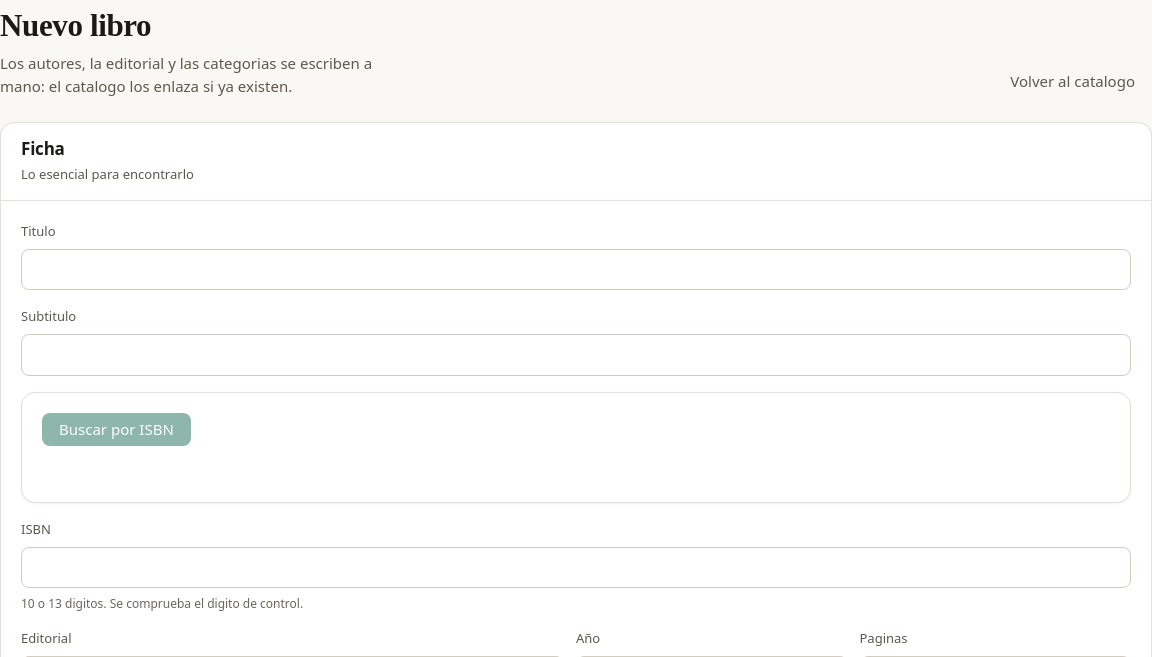
Test: BookForm con relleno por ISBN › copia los datos del proveedor al formulario al confirmar
In the field labelled "ISBN": (576, 567) [21,547,1131,588], type "9780306406157"
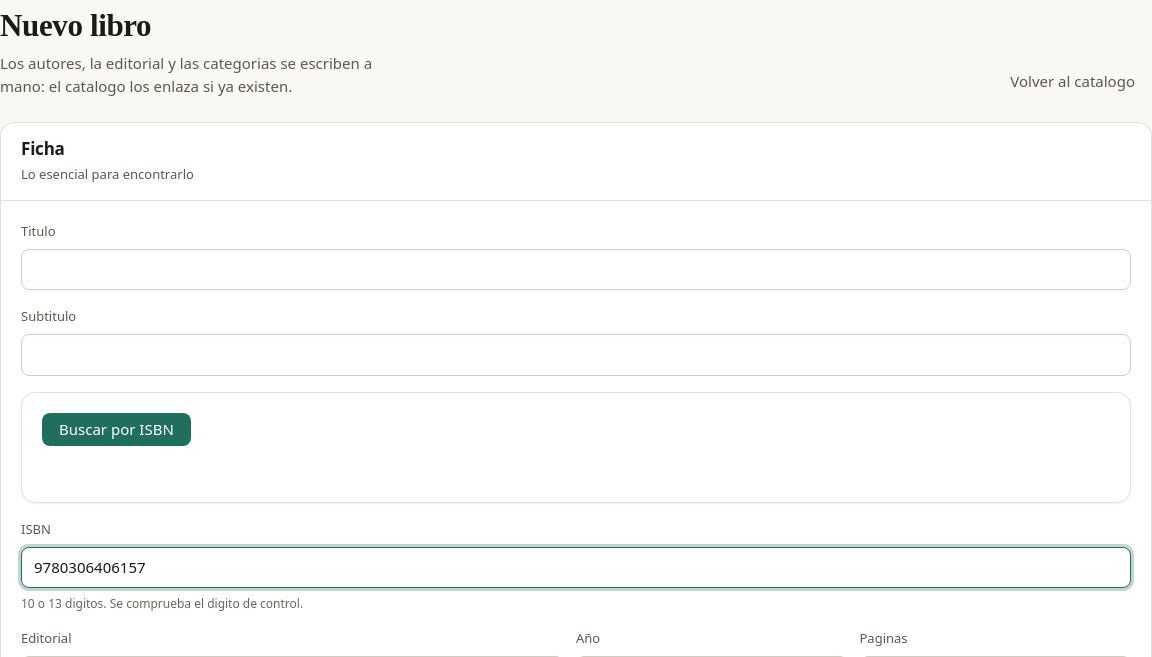
Click the button "Buscar por ISBN": (116, 429) [42,413,191,446]
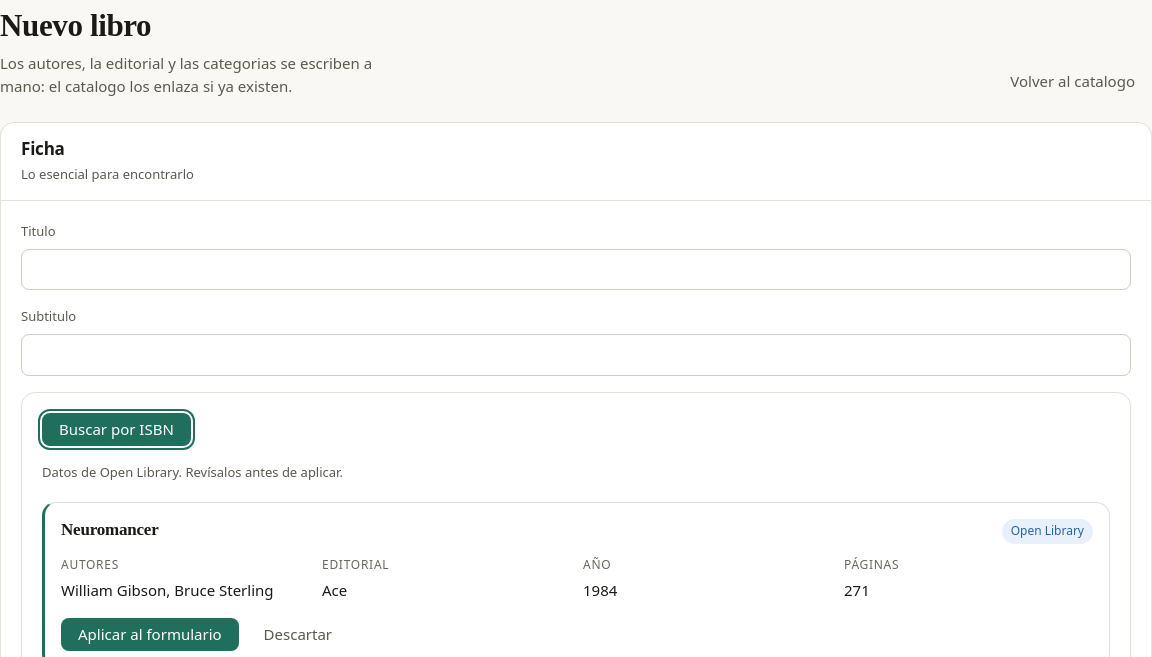
Click the button "Aplicar al formulario": (150, 634) [61,618,239,651]
(page scrolled)
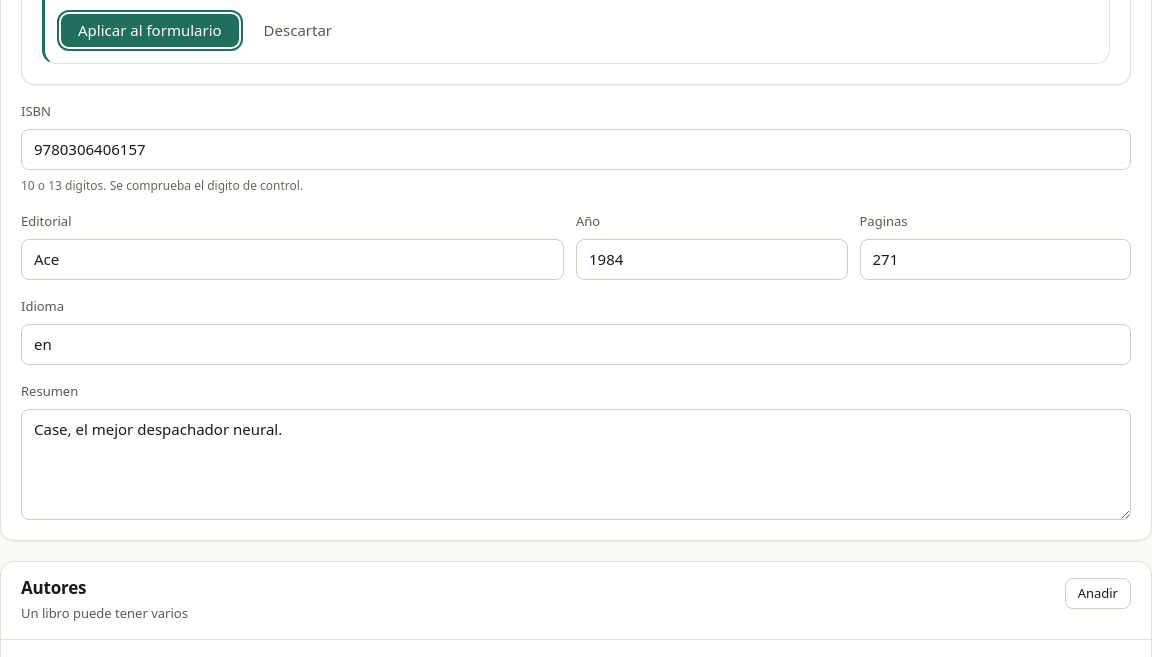
Expected: the field labelled "Editorial" holds "Ace", [21,239,564,280]
Expected: the number field labelled "Año" holds "1984", [576,239,848,280]
Expected: the number field labelled "Paginas" holds "271", [860,239,1131,280]
